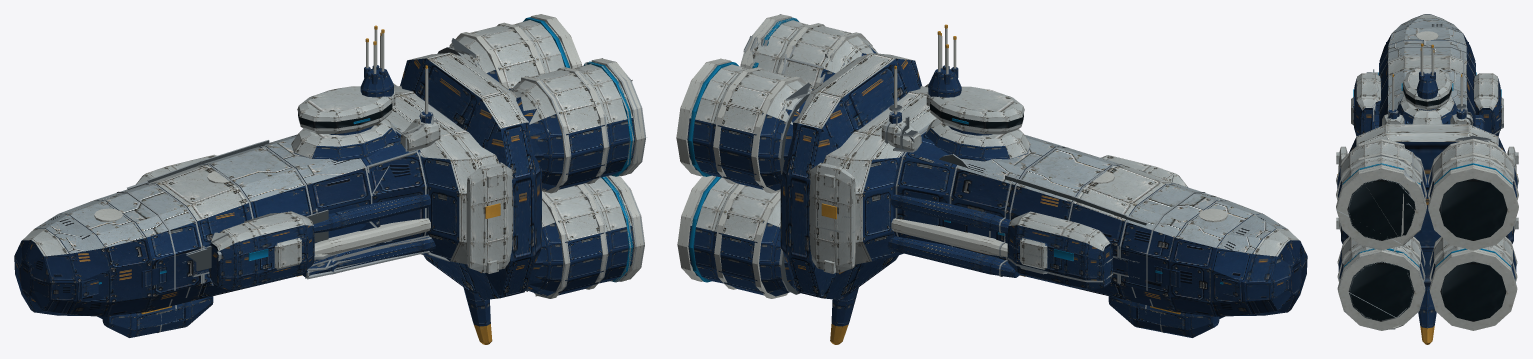
File: concord-cruiser-broadside.glb
3 renders of one model, left to right at view 1: azimuth 30°, elevation 25°; view 2: azimuth 150°, elevation 25°; view 3: azimuth 270°, elevation 25°, orthographic. The views are drawn at different scales.
Visible parts, largest first — view 1: Cruiser wreck broadside shell, Cruiser wreck command hull, Cruiser wreck ejected structure 1, Cruiser wreck command tower, Cruiser wreck ejected structure 2; view 2: Cruiser wreck command hull, Cruiser wreck ejected structure 1, Cruiser wreck command tower, Cruiser wreck broadside shell, Cruiser wreck ejected structure 2; view 3: Cruiser wreck command hull, Cruiser wreck broadside shell, Cruiser wreck command tower, Cruiser wreck ejected structure 1, Cruiser wreck ejected structure 2.
Part boxes in pixels (bbox=[...]): Cruiser wreck broadside shell: bbox=[211, 58, 646, 299]; Cruiser wreck command hull: bbox=[14, 14, 581, 344]; Cruiser wreck ejected structure 1: bbox=[132, 136, 328, 250]; Cruiser wreck command tower: bbox=[297, 25, 419, 150]; Cruiser wreck ejected structure 2: bbox=[295, 63, 512, 204]; Cruiser wreck command hull: bbox=[676, 45, 1307, 344]; Cruiser wreck ejected structure 1: bbox=[989, 136, 1196, 218]; Cruiser wreck command tower: bbox=[902, 24, 1025, 150]; Cruiser wreck broadside shell: bbox=[744, 14, 1187, 187]; Cruiser wreck ejected structure 2: bbox=[809, 63, 1043, 165]; Cruiser wreck command hull: bbox=[1366, 14, 1518, 344]; Cruiser wreck broadside shell: bbox=[1336, 73, 1416, 330]; Cruiser wreck command tower: bbox=[1399, 43, 1460, 123]; Cruiser wreck ejected structure 1: bbox=[1380, 49, 1457, 116]; Cruiser wreck ejected structure 2: bbox=[1380, 97, 1457, 176].
Size of the model in its own units: 2.25 by 1.3 by 0.8302.
Materials: 3 (1 with a texture image).
